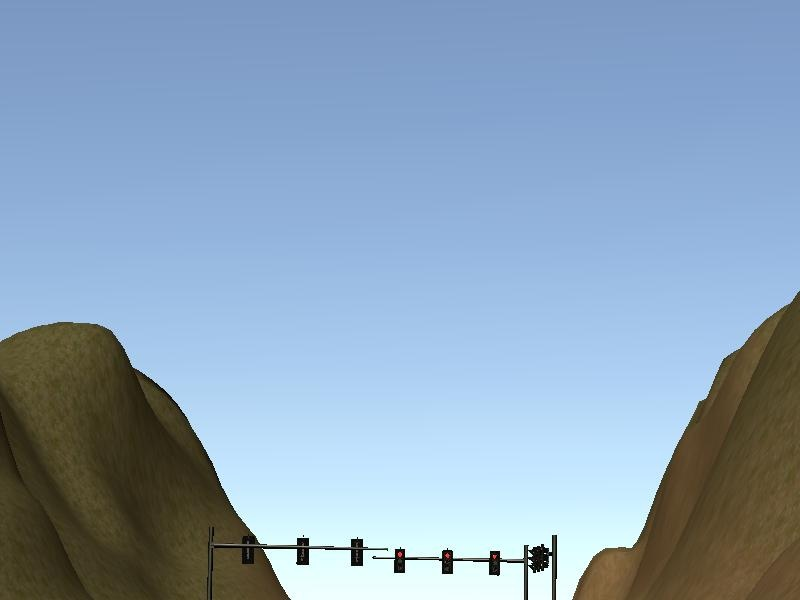traffic_light_red: (382, 547, 522, 576)
